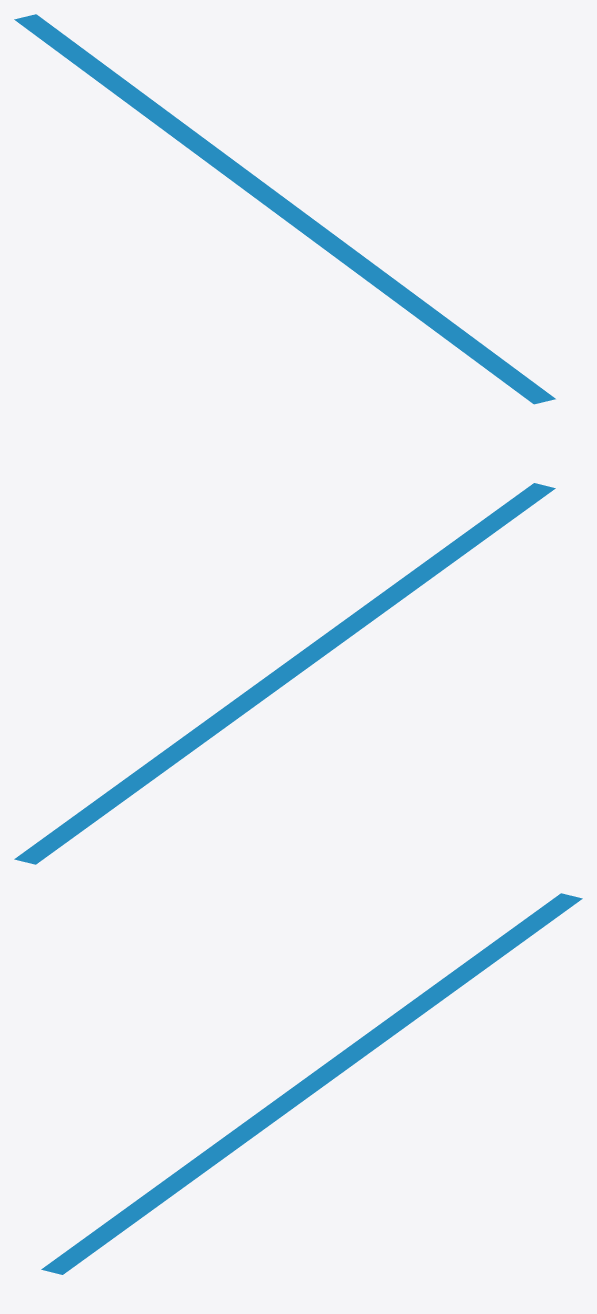
File: guide.glb
3 renders of one model, top to bottom at view 1: azimuth 30°, elevation 25°; view 2: azimuth 150°, elevation 25°; view 3: azimuth 330°, elevation 25°, orthographic.
Parts seen in each view (by area): view 1: static; view 2: static; view 3: static.
Part boxes in pixels (x1,y1,x2,y2): static: (14, 14, 555, 404); static: (14, 483, 555, 864); static: (41, 893, 582, 1274).
Size of the model in its own units: 1 by 0 by 14.
